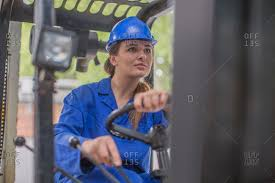Person_wearing_helmet: (104, 13, 161, 57)
